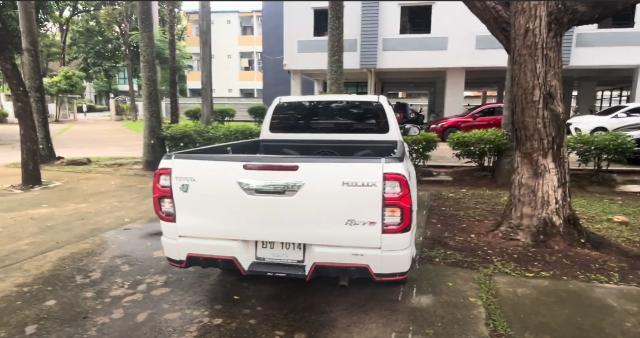pickup-truck: (151, 93, 420, 289)
